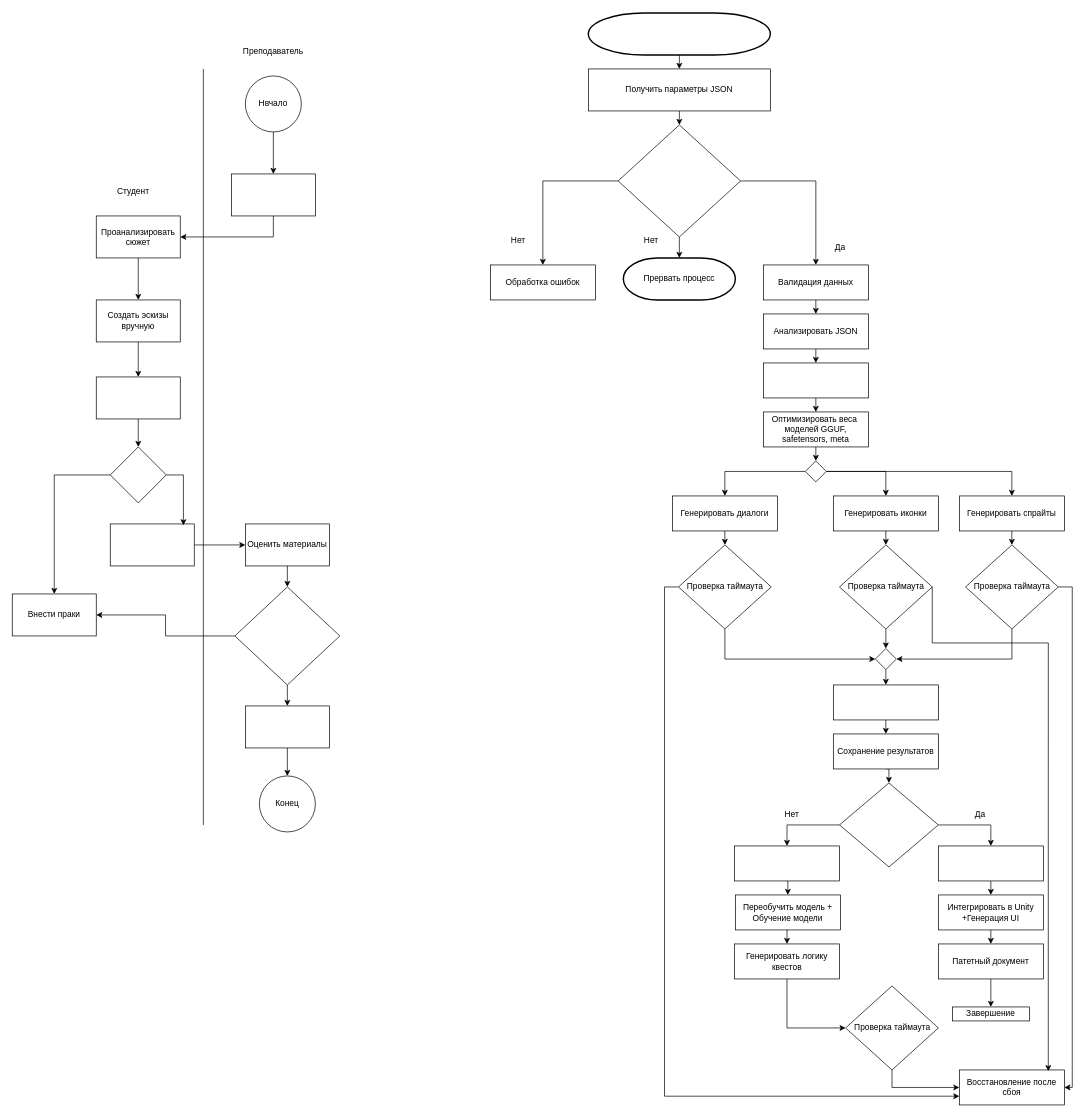
Image size: 1091x1117. Some labels were removed from this diagram. The box of each missing label's shape, as (x1, y1, x2, y2) in pixels:
Запрос обратной связи пользователя: (734, 845, 840, 881)
Оцифровать в графическом редакторе: (96, 376, 180, 419)
Передать на согласование: (110, 523, 194, 566)
Предварительная инициализация: (587, 12, 771, 55)
Преобразовать n-грамм в эмбеддинги: (763, 362, 868, 398)
Проверка доступности ресурсов: (617, 124, 741, 237)
Слияние: (110, 446, 166, 503)
Соответсвует ли качество стандартам?: (839, 782, 938, 867)
Сформировать текстовое задание: (231, 173, 315, 216)
Тестировать качество BLEU > 0,7, MSE < 0,1 Срок тестирования: (833, 684, 938, 720)
Требуются правки?: (234, 586, 340, 685)
Утвердить контент: (245, 705, 329, 748)
Финальная проверка: (938, 845, 1043, 881)
